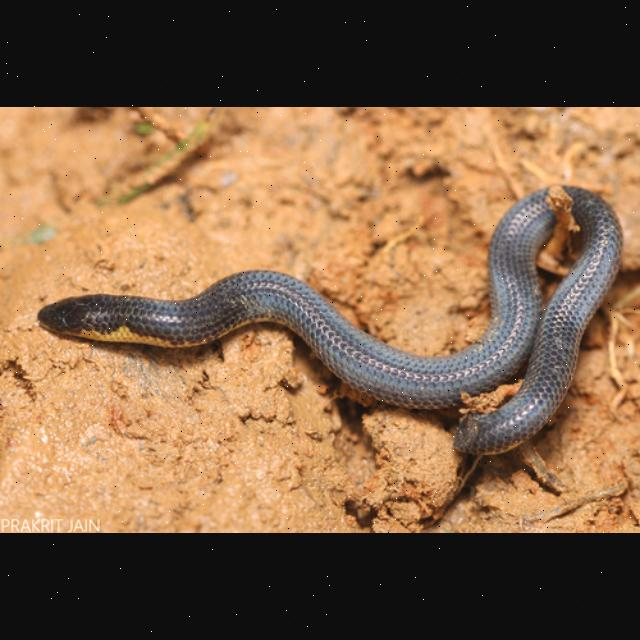snake: (34, 176, 640, 466)
